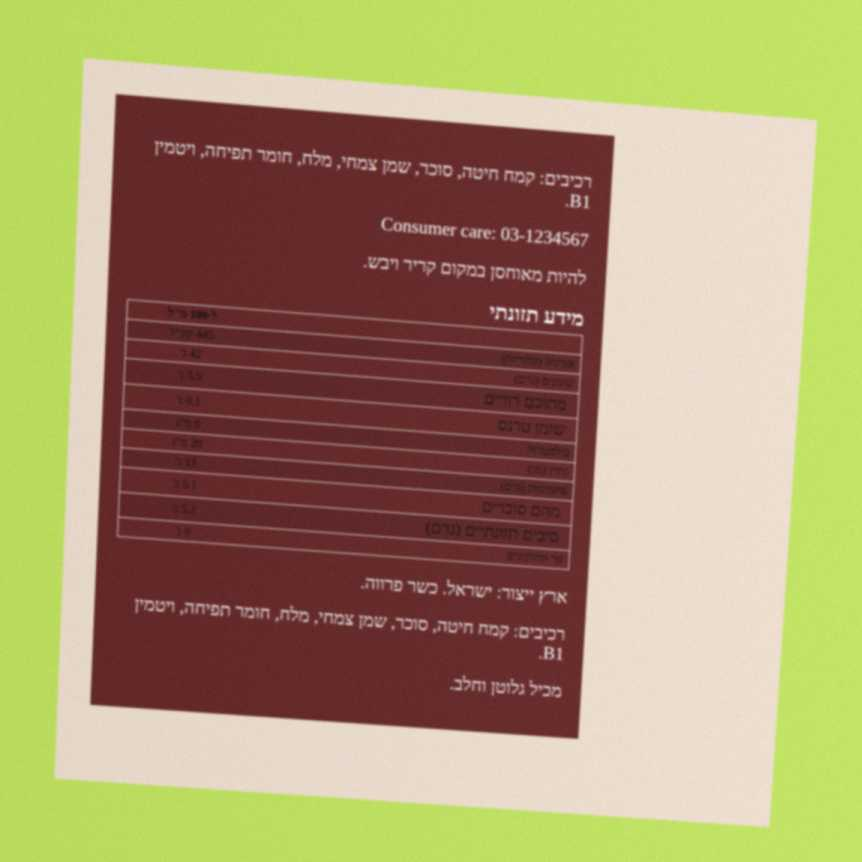carbs: (174, 453, 198, 470)
energy: (168, 324, 216, 343)
fat: (179, 345, 203, 362)
protein: (174, 523, 192, 539)
